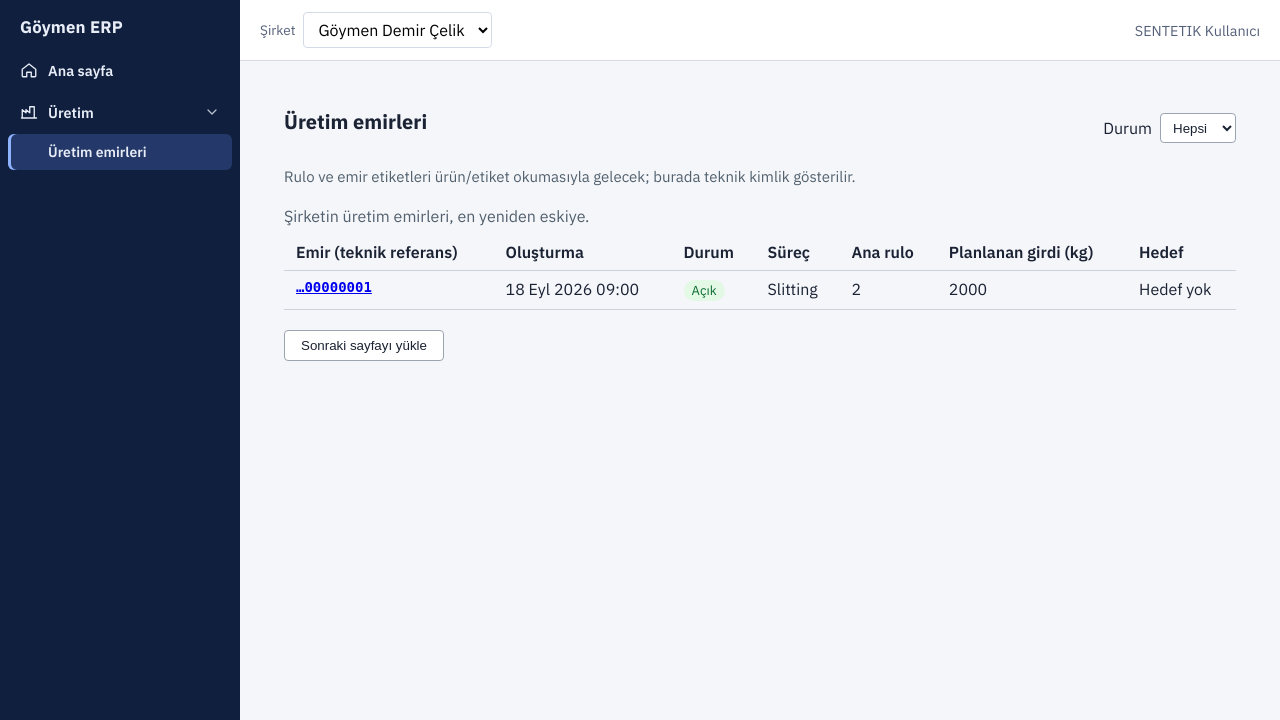
Test: order list › sends the server’s own cursor back unchanged and appends the next page once
The width and height of the screenshot is (1280, 720).
Expected: the row "…00000001 18 Eyl 2026 09:00 Açık Slitting 2 2000 Hedef yok" is shown, top-left (284, 270), bottom-right (1236, 309)
Click the button "Sonraki sayfayı yükle" at (364, 345), box top-left (284, 330), bottom-right (444, 361)
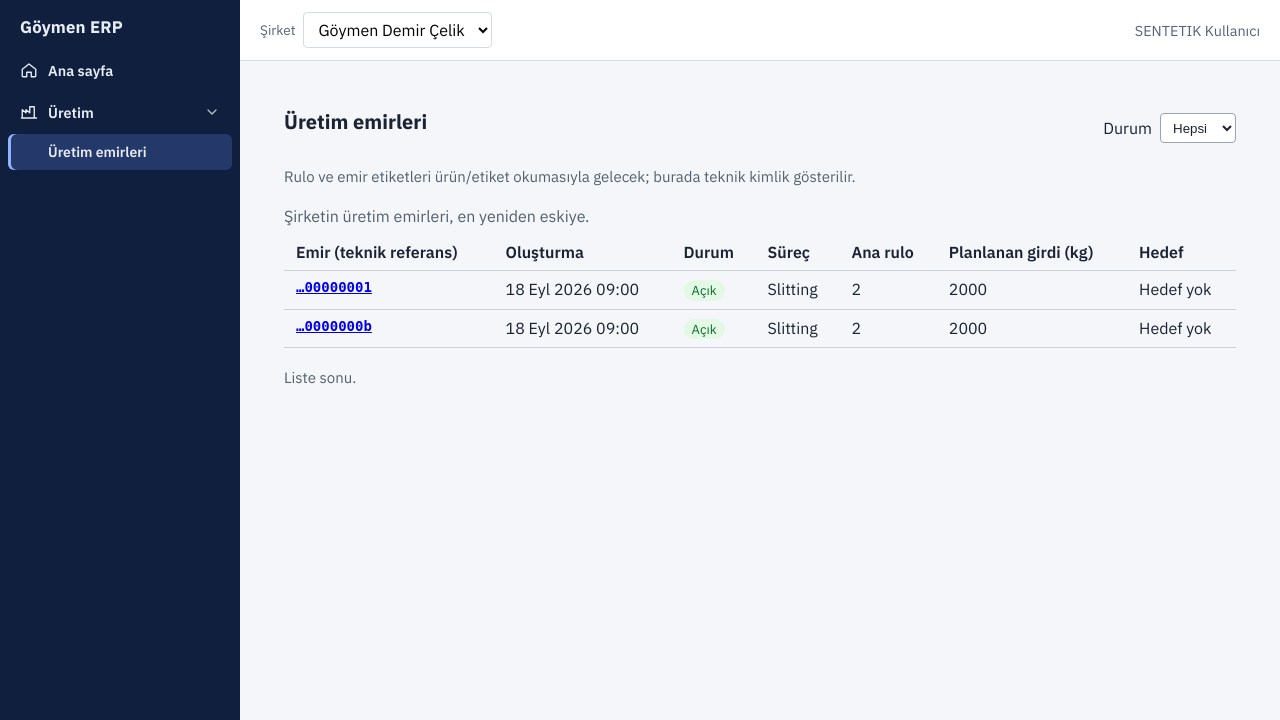
Result: the row "…0000000b 18 Eyl 2026 09:00 Açık Slitting 2 2000 Hedef yok" is shown at top-left (284, 309), bottom-right (1236, 348)
Result: the text "Liste sonu." is shown at top-left (284, 368), bottom-right (356, 387)
Result: the number of rows "…00000001 18 Eyl 2026 09:00 Açık Slitting 2 2000 Hedef yok" is 1 at top-left (284, 270), bottom-right (1236, 309)
